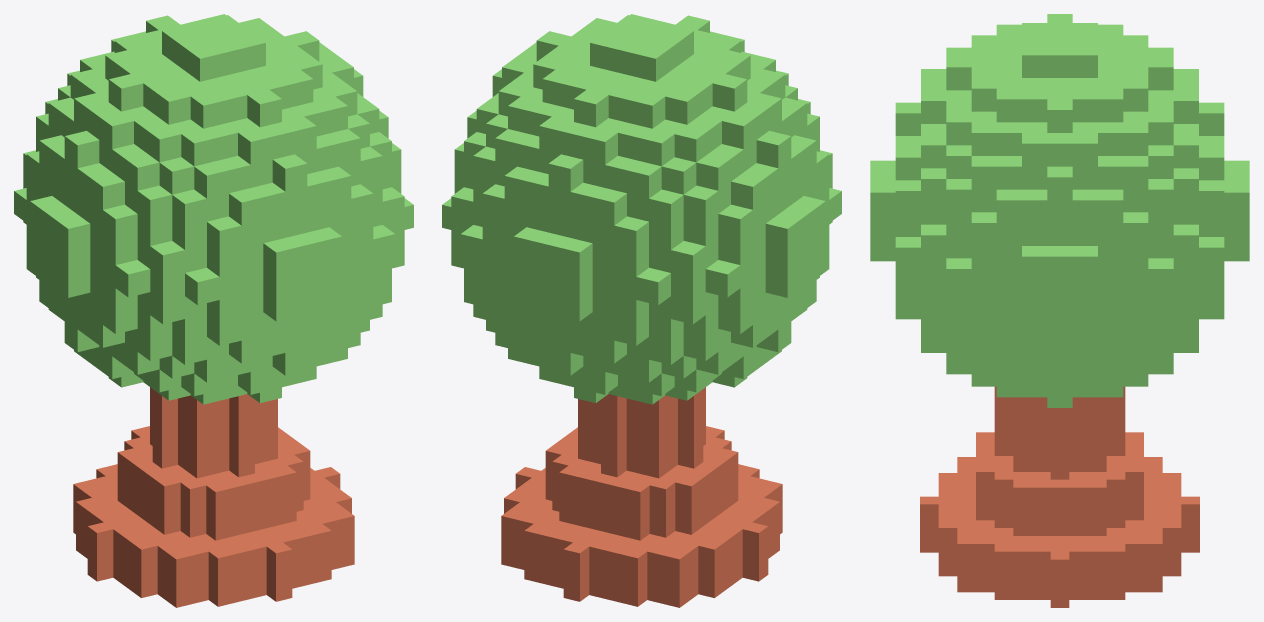
The model's file is tree.glb.
The picture shows the model from 3 angles, left to right: view 1: azimuth 30°, elevation 25°; view 2: azimuth 150°, elevation 25°; view 3: azimuth 270°, elevation 25°; orthographic projection.
Parts seen in each view (by area): view 1: Sphere, Cylinder; view 2: Sphere, Cylinder; view 3: Sphere, Cylinder.
Boxes of the visible parts, <box> form: Sphere: <box>14,14,413,404</box>; Cylinder: <box>73,387,354,607</box>; Sphere: <box>442,14,841,404</box>; Cylinder: <box>501,387,782,607</box>; Sphere: <box>870,14,1249,407</box>; Cylinder: <box>920,386,1199,607</box>.
Bounding box in the file's own units: 2.07 × 3.07 × 2.07.
